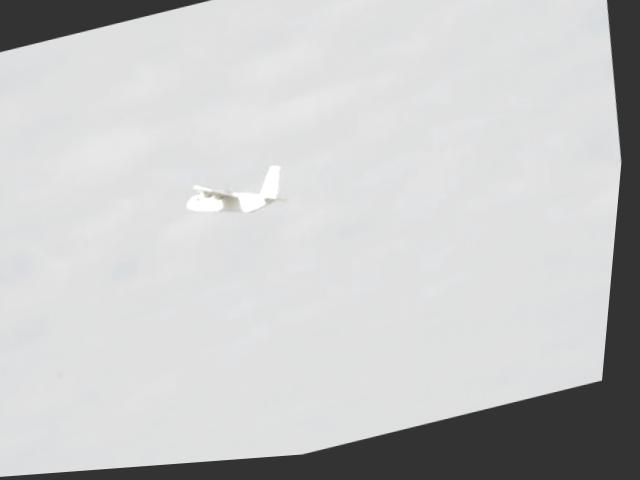uav: (179, 157, 299, 235)
